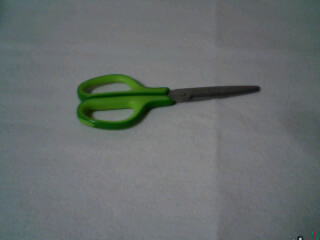003_classes: (66, 65, 269, 131)
